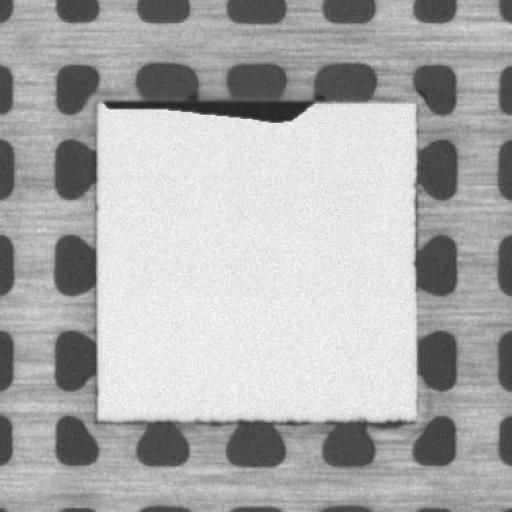DIE_BROKEN: (102, 92, 317, 121)
